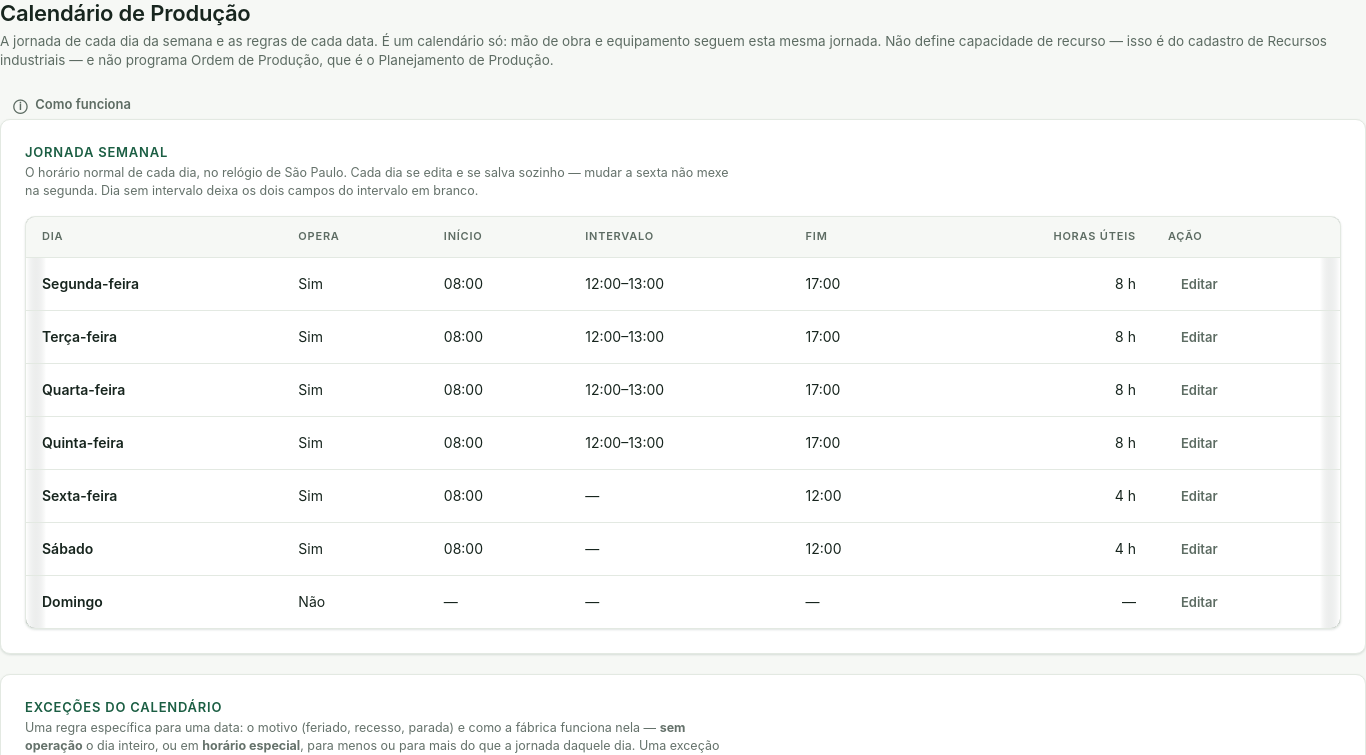
Test: jornada semanal — sete linhas › recusa da API aparece como alerta, a linha continua em edição e nada vira sucesso
The image size is (1366, 755).
Click the button "Editar" in the row of "Sábado". click: (1199, 549)
box: [1168, 535, 1231, 563]
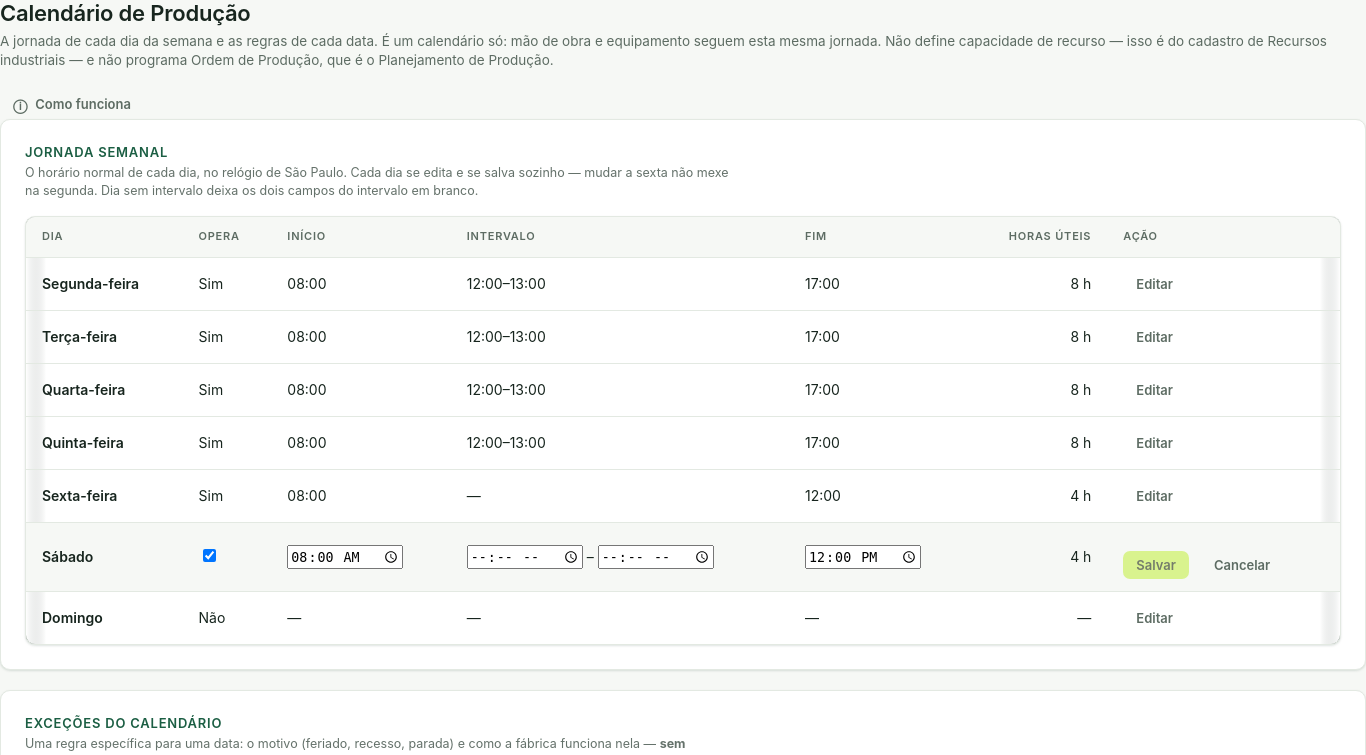
Click the checkbox named "Sábado opera". click: (209, 556)
box: [202, 549, 216, 562]
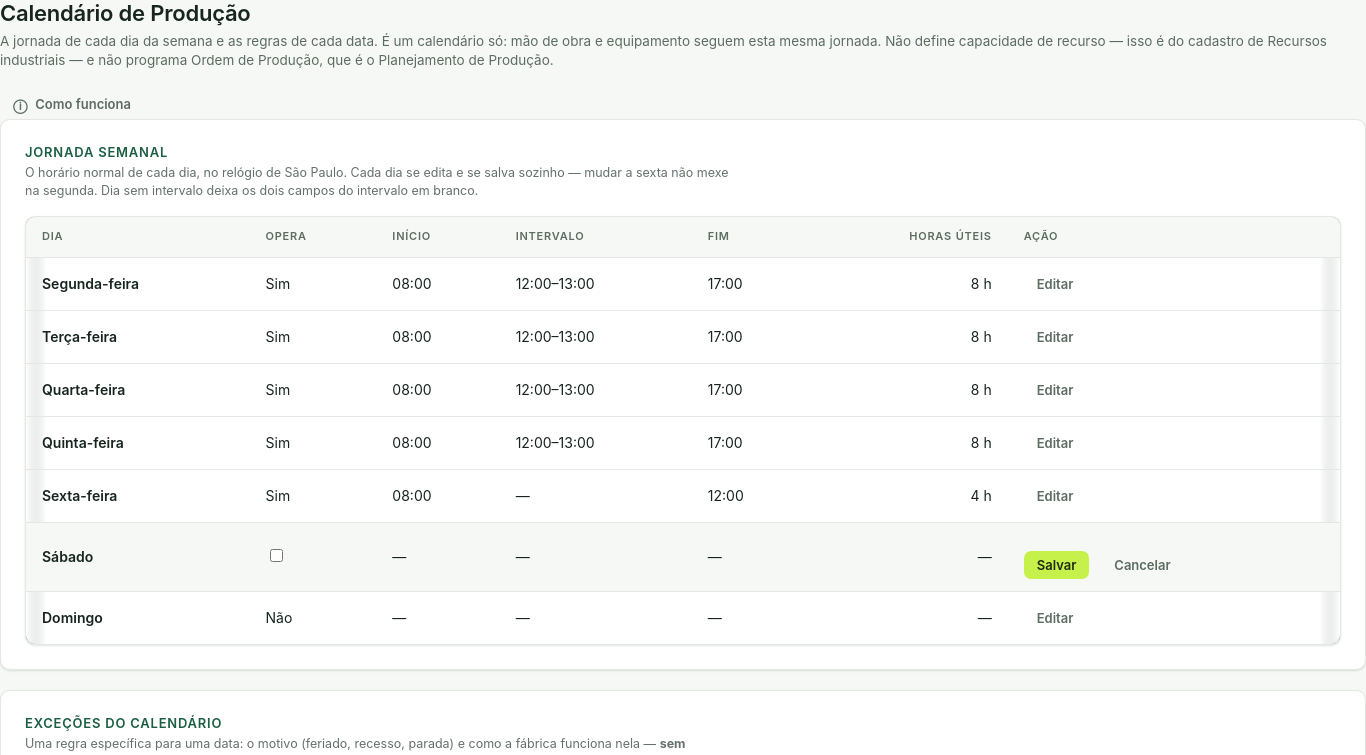
Click the button "Salvar". click: (1056, 565)
box: [1024, 551, 1089, 579]
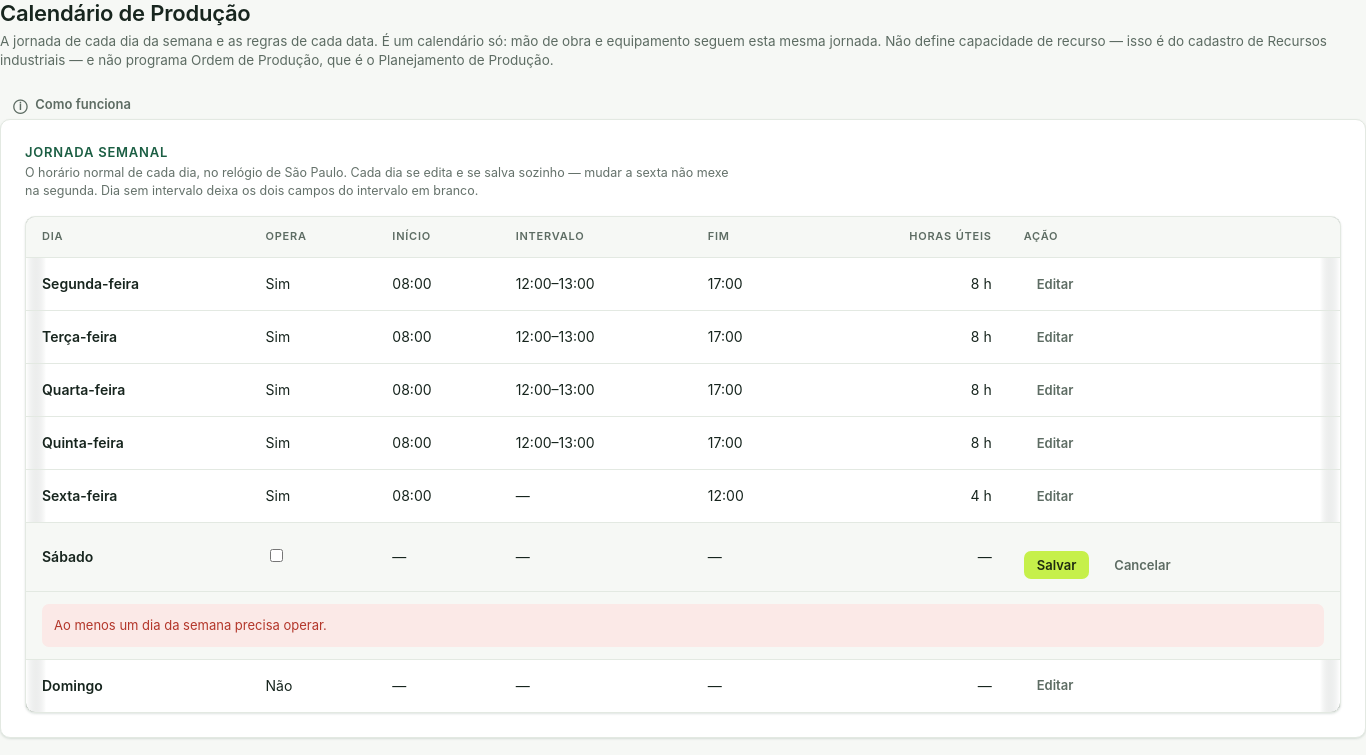
Result: the checkbox named "Sábado opera" is not checked at [270, 549, 282, 562]
Result: the message reads "Ao menos um dia da semana precisa operar." at [54, 617, 327, 633]
